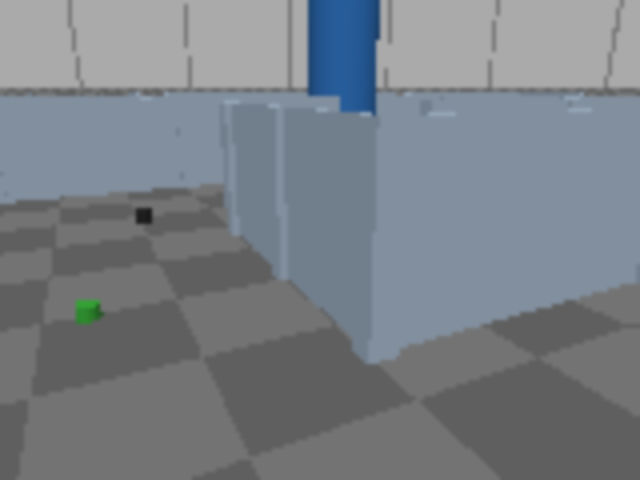puck: (74, 298, 102, 323)
